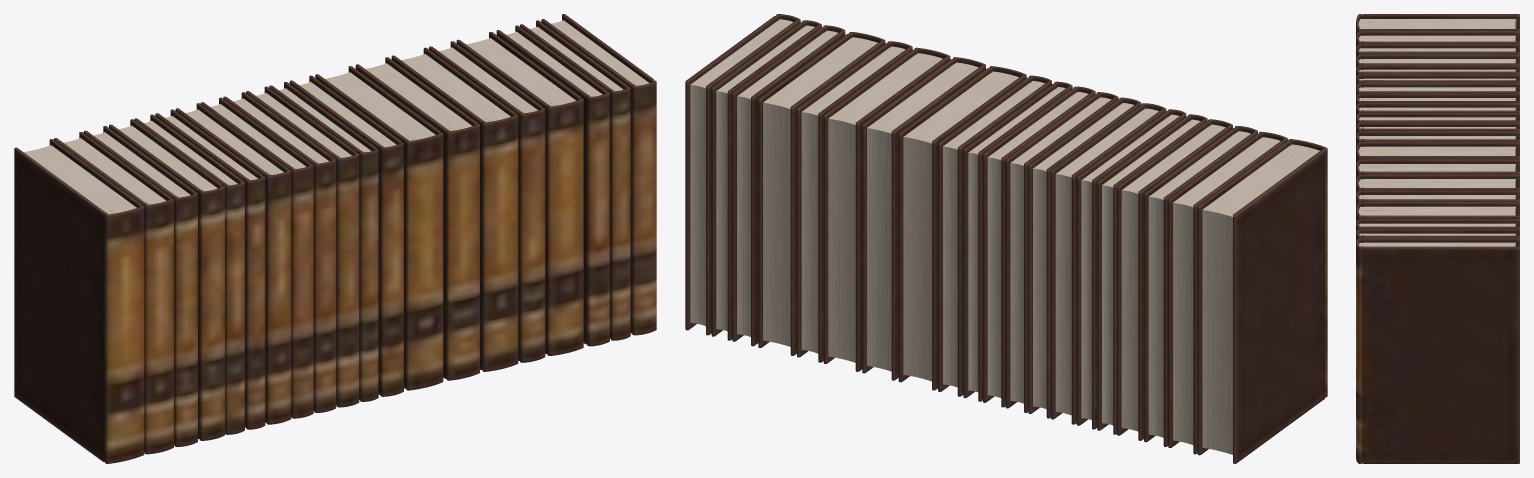
File: book_encyclopedia_set_01_1k.gltf
3 views of the same model, side by side, from view 1: azimuth 30°, elevation 25°; view 2: azimuth 150°, elevation 25°; view 3: azimuth 270°, elevation 25° (orthographic). The views are drawn at different scales.
Parts seen in each view (by area): view 1: book_encyclopedia_set_01_book01, book_encyclopedia_set_01_book13, book_encyclopedia_set_01_book15, book_encyclopedia_set_01_book17, book_encyclopedia_set_01_book14, book_encyclopedia_set_01_book02, book_encyclopedia_set_01_book16, book_encyclopedia_set_01_book04, book_encyclopedia_set_01_book18, book_encyclopedia_set_01_book20, book_encyclopedia_set_01_book07, book_encyclopedia_set_01_book12 (+8 smaller); view 2: book_encyclopedia_set_01_book01, book_encyclopedia_set_01_book13, book_encyclopedia_set_01_book15, book_encyclopedia_set_01_book17, book_encyclopedia_set_01_book14, book_encyclopedia_set_01_book02, book_encyclopedia_set_01_book04, book_encyclopedia_set_01_book16, book_encyclopedia_set_01_book18, book_encyclopedia_set_01_book20, book_encyclopedia_set_01_book07, book_encyclopedia_set_01_book12 (+8 smaller); view 3: book_encyclopedia_set_01_book20, book_encyclopedia_set_01_book13, book_encyclopedia_set_01_book01, book_encyclopedia_set_01_book17, book_encyclopedia_set_01_book15, book_encyclopedia_set_01_book14, book_encyclopedia_set_01_book02, book_encyclopedia_set_01_book16, book_encyclopedia_set_01_book03, book_encyclopedia_set_01_book12, book_encyclopedia_set_01_book07, book_encyclopedia_set_01_book04 (+8 smaller).
Boxes of the visible parts, left/top/right/bottom form: book_encyclopedia_set_01_book01: left=14, top=139, right=144, bottom=463; book_encyclopedia_set_01_book13: left=315, top=66, right=443, bottom=390; book_encyclopedia_set_01_book15: left=391, top=47, right=518, bottom=371; book_encyclopedia_set_01_book17: left=456, top=31, right=583, bottom=355; book_encyclopedia_set_01_book14: left=355, top=57, right=479, bottom=380; book_encyclopedia_set_01_book02: left=54, top=132, right=173, bottom=454; book_encyclopedia_set_01_book16: left=429, top=41, right=545, bottom=362; book_encyclopedia_set_01_book04: left=109, top=119, right=224, bottom=440; book_encyclopedia_set_01_book18: left=496, top=25, right=609, bottom=346; book_encyclopedia_set_01_book20: left=541, top=14, right=656, bottom=335; book_encyclopedia_set_01_book07: left=175, top=103, right=291, bottom=424; book_encyclopedia_set_01_book12: left=289, top=75, right=403, bottom=396; book_encyclopedia_set_01_book01: left=1197, top=139, right=1327, bottom=463; book_encyclopedia_set_01_book13: left=898, top=66, right=1026, bottom=390; book_encyclopedia_set_01_book15: left=823, top=47, right=950, bottom=371; book_encyclopedia_set_01_book17: left=758, top=32, right=885, bottom=355; book_encyclopedia_set_01_book14: left=862, top=57, right=985, bottom=380; book_encyclopedia_set_01_book02: left=1168, top=131, right=1287, bottom=454; book_encyclopedia_set_01_book04: left=1117, top=119, right=1232, bottom=440; book_encyclopedia_set_01_book16: left=797, top=41, right=912, bottom=362; book_encyclopedia_set_01_book18: left=732, top=25, right=845, bottom=346; book_encyclopedia_set_01_book20: left=685, top=14, right=800, bottom=335; book_encyclopedia_set_01_book07: left=1051, top=103, right=1166, bottom=424; book_encyclopedia_set_01_book12: left=938, top=75, right=1051, bottom=396; book_encyclopedia_set_01_book20: left=1356, top=238, right=1519, bottom=463; book_encyclopedia_set_01_book13: left=1356, top=142, right=1519, bottom=164; book_encyclopedia_set_01_book01: left=1356, top=14, right=1519, bottom=35; book_encyclopedia_set_01_book17: left=1356, top=202, right=1519, bottom=222; book_encyclopedia_set_01_book15: left=1356, top=174, right=1519, bottom=194; book_encyclopedia_set_01_book14: left=1356, top=159, right=1519, bottom=180; book_encyclopedia_set_01_book02: left=1356, top=30, right=1519, bottom=47; book_encyclopedia_set_01_book16: left=1356, top=190, right=1519, bottom=208; book_encyclopedia_set_01_book03: left=1356, top=43, right=1519, bottom=58; book_encyclopedia_set_01_book12: left=1356, top=131, right=1519, bottom=148; book_encyclopedia_set_01_book07: left=1356, top=82, right=1519, bottom=96; book_encyclopedia_set_01_book04: left=1356, top=54, right=1519, bottom=68.
Bounding box in the file's own units: 0.5513 × 0.2374 × 0.1631.
Materials: 2 (2 with a texture image).
